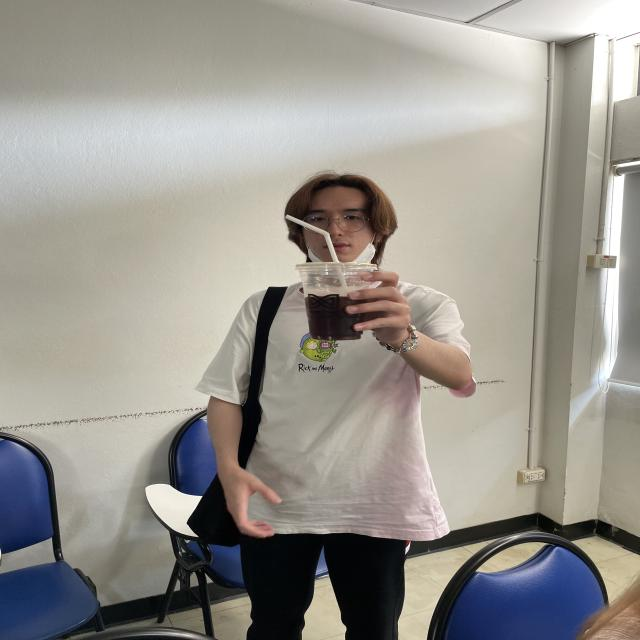cup: (295, 262, 380, 341)
